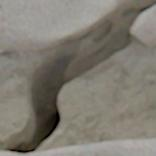brick: (27, 140, 155, 155), (0, 153, 18, 155)
broken_brick: (0, 0, 132, 53), (131, 7, 155, 46)
crack: (0, 0, 155, 155)
